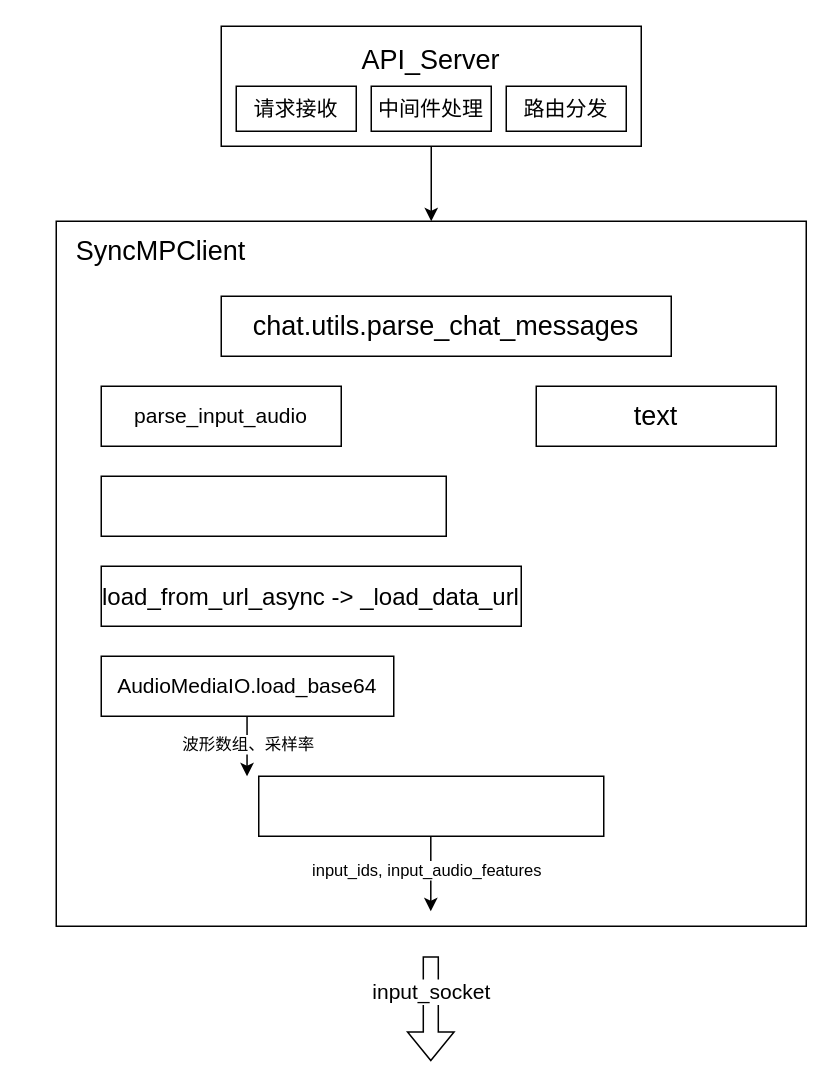
This 833x1088 diagram has some shape labels left out. The centre of each missing label's shape, as x and y in pixels:
MediaConnector.fetch_audio_async: pixel 273 505
process_multiodal: pixel 430 805
